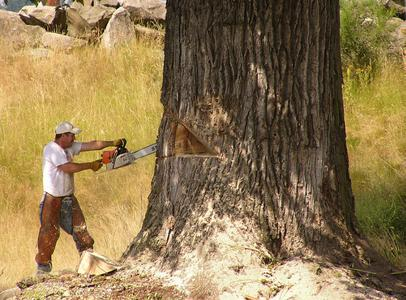person: (36, 121, 124, 274)
